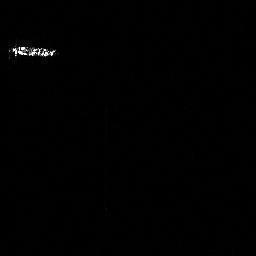ship: (1, 45, 65, 61)
